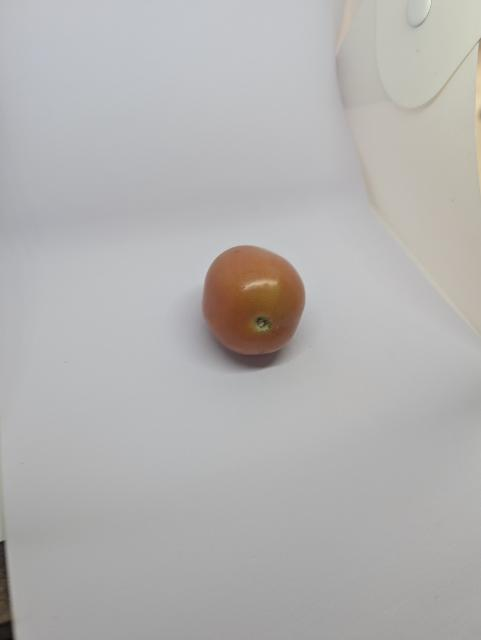turning: (201, 238, 313, 364)
